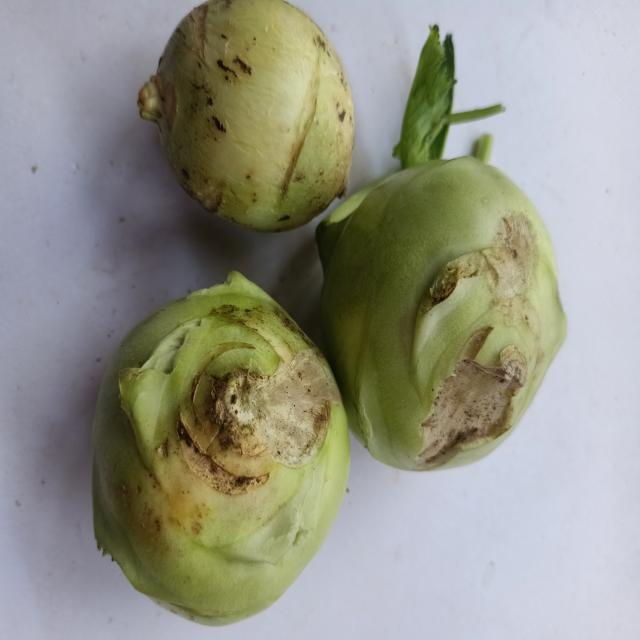Turnip: (315, 20, 582, 490), (84, 261, 362, 631), (130, 0, 360, 239)
